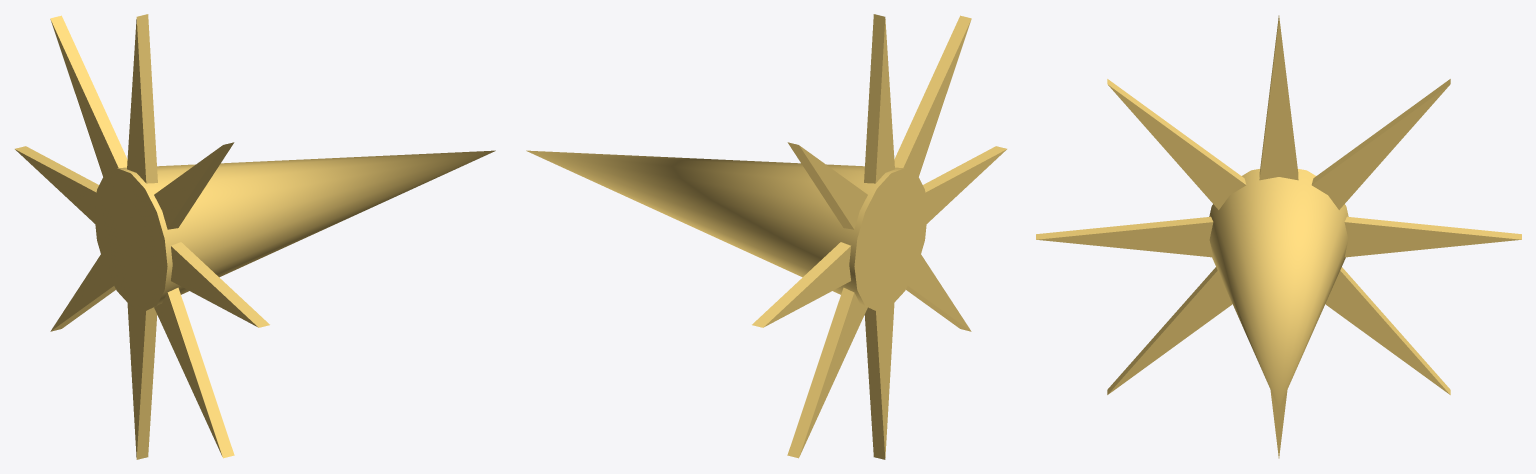
File: clarao.obj
3 renders of one model, left to right at view 1: azimuth 30°, elevation 25°; view 2: azimuth 150°, elevation 25°; view 3: azimuth 270°, elevation 25°, orthographic.
Size of the model in its own units: 0.152 by 0.176 by 0.176.
